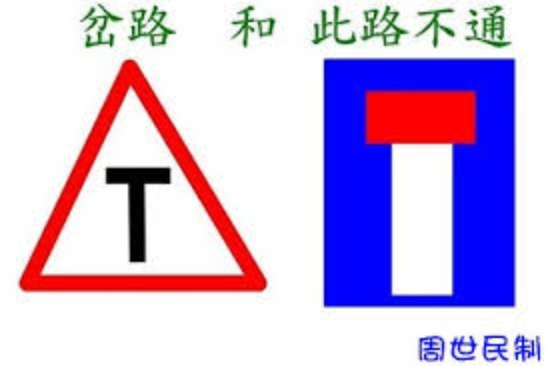Fork_road: (5, 51, 280, 299)
